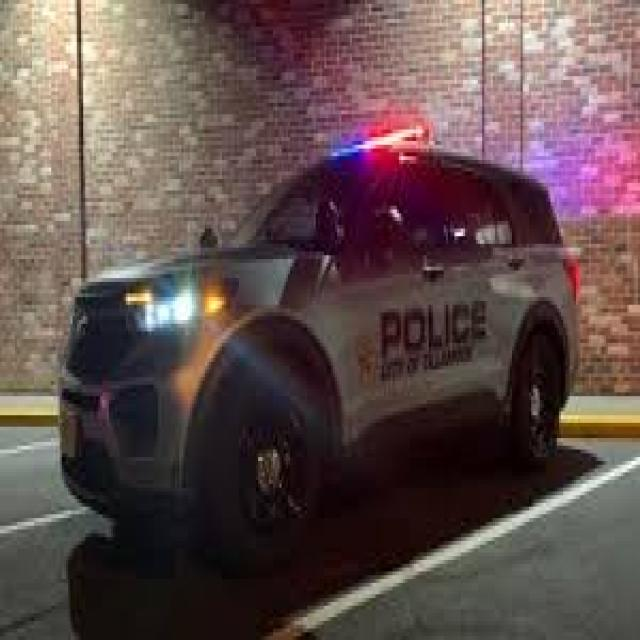cop: (58, 123, 581, 570)
